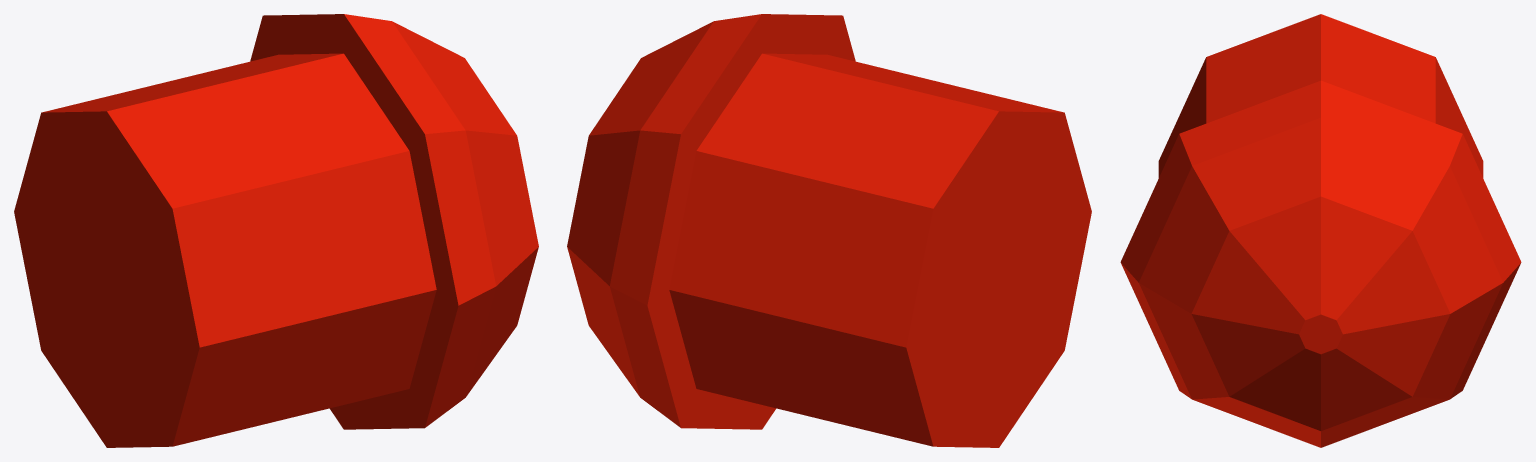
The model's file is biplane_propeller_center.fbx.
The picture shows the model from 3 angles, left to right: view 1: azimuth 30°, elevation 25°; view 2: azimuth 150°, elevation 25°; view 3: azimuth 270°, elevation 25°; orthographic projection. The views are drawn at different scales.
Visible parts, largest first — view 1: PropellerCenter; view 2: PropellerCenter; view 3: PropellerCenter.
Boxes of the visible parts, x1=… form: PropellerCenter: x1=14, y1=14, x2=538, y2=447; PropellerCenter: x1=567, y1=14, x2=1091, y2=447; PropellerCenter: x1=1120, y1=14, x2=1521, y2=447.
Size of the model in its own units: 69.11 by 67.6 by 67.6.
